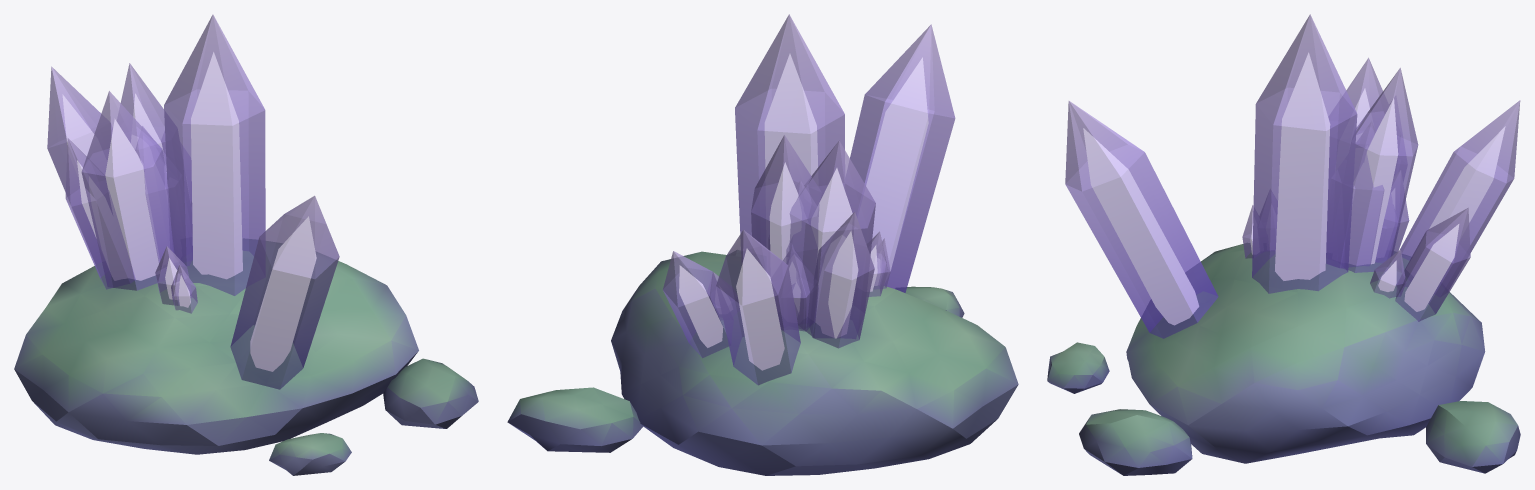
File: hub_crystal_cluster_b.glb
3 renders of one model, left to right at view 1: azimuth 30°, elevation 25°; view 2: azimuth 150°, elevation 25°; view 3: azimuth 270°, elevation 25°, orthographic. The views are drawn at different scales.
Parts seen in each view (by area): view 1: hub_crystal_cluster_b; view 2: hub_crystal_cluster_b; view 3: hub_crystal_cluster_b.
Boxes of the visible parts, x1,y1,x2,y2 form: hub_crystal_cluster_b: (14, 14, 478, 475); hub_crystal_cluster_b: (507, 14, 1018, 475); hub_crystal_cluster_b: (1047, 14, 1520, 475).
Size of the model in its own units: 6.68 by 6.62 by 7.46.
